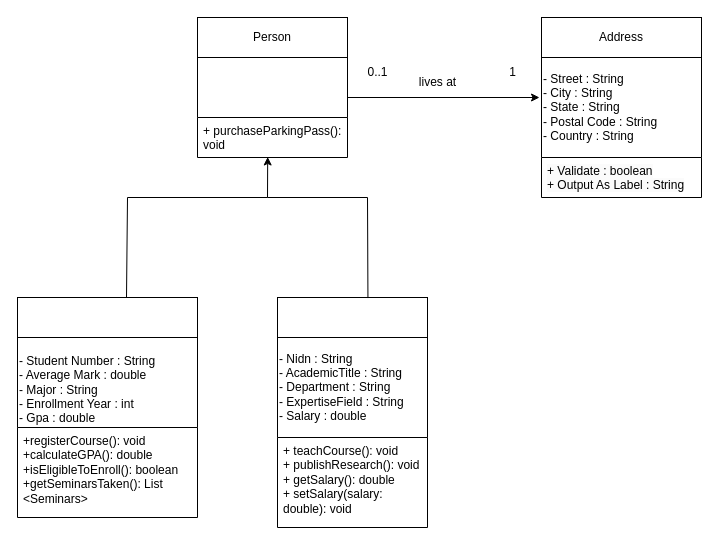
The diagram is 719 pixels wide and 548 high, and some of its shapes have lost their labels. The box of each missing label's shape, as (x1, y1, x2, y2) in pixels:
- Name : String - Phone Number : String - Email Address : String: (196, 56, 348, 158)
Professor: (276, 296, 428, 338)
Student: (16, 296, 198, 338)
